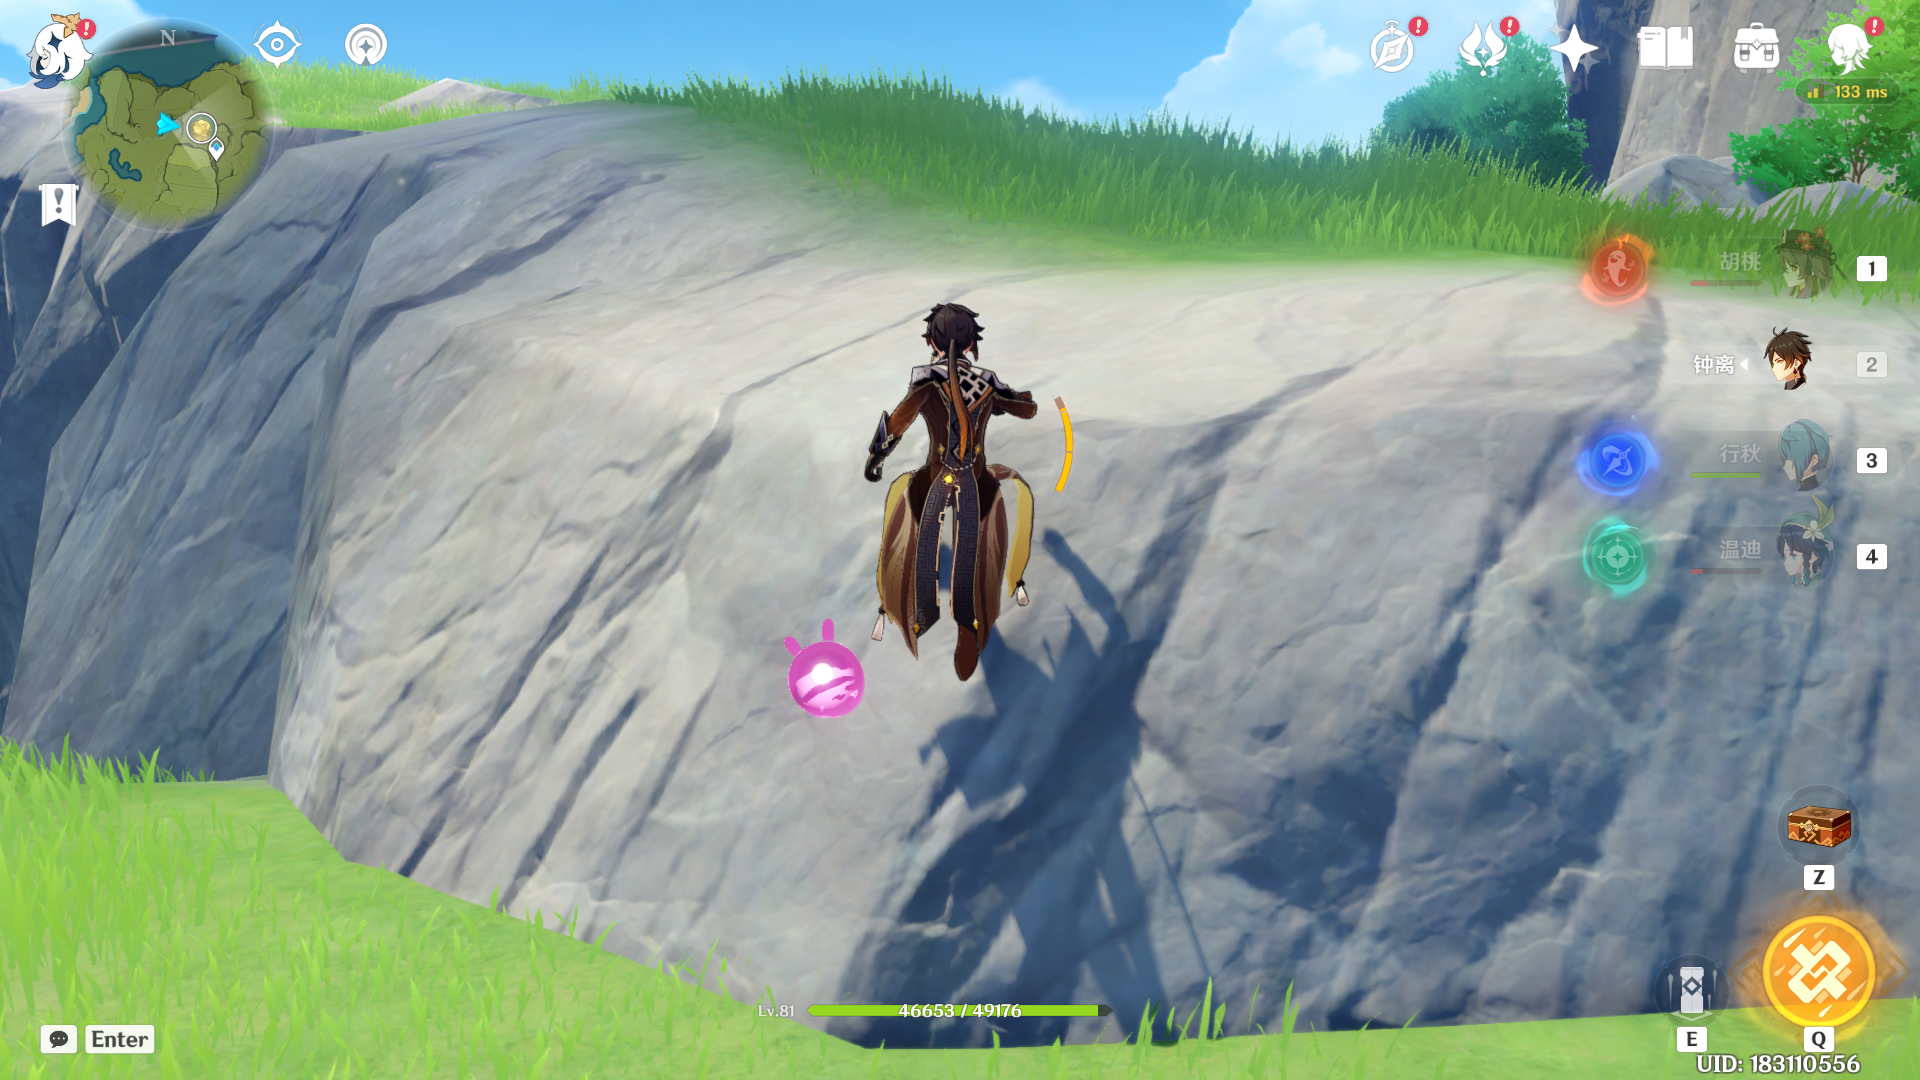character: (771, 255, 1145, 738)
